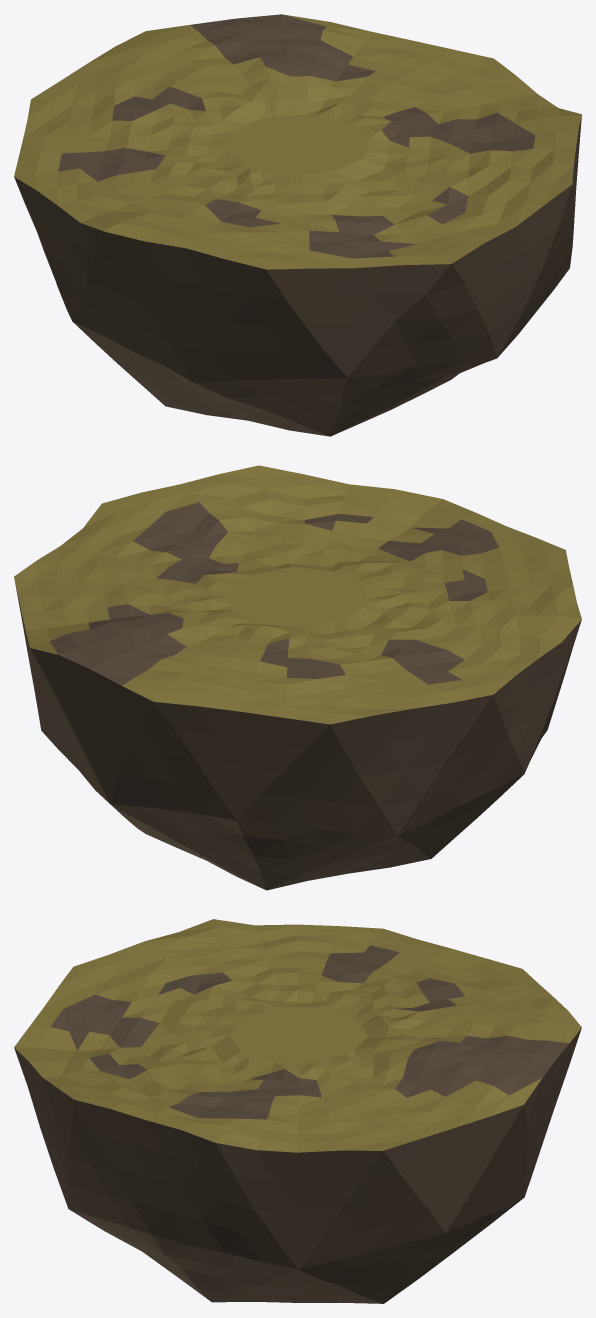
Rendered from Island1.fbx.
3 views of the same model, one above another, from view 1: azimuth 30°, elevation 25°; view 2: azimuth 150°, elevation 25°; view 3: azimuth 270°, elevation 25° (orthographic). The views are drawn at different scales.
Visible parts, largest first — view 1: Icosphere; view 2: Icosphere; view 3: Icosphere.
Boxes of the visible parts, <box> form: Icosphere: <box>14,14,581,436</box>; Icosphere: <box>14,465,581,890</box>; Icosphere: <box>14,919,581,1303</box>.
Size of the model in its own units: 4600 by 2594 by 4935.
